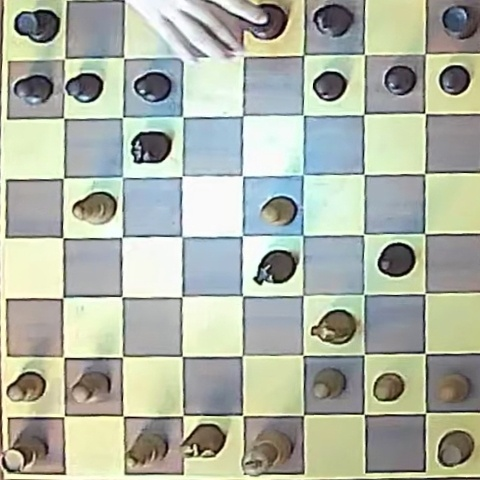black-bishop: (313, 3, 353, 38), (377, 243, 415, 278)
black-king: (248, 3, 287, 41)
black-knight: (254, 250, 296, 285), (130, 131, 171, 164)
black-pawn: (133, 71, 172, 103), (14, 74, 54, 105), (65, 72, 103, 103), (384, 65, 417, 95), (313, 71, 346, 101), (439, 65, 470, 95)
black-rook: (14, 9, 60, 43), (441, 5, 476, 39)
white-bishop: (123, 431, 167, 470), (73, 192, 116, 224)
white-king: (242, 429, 293, 477)
white-knight: (180, 424, 225, 459), (312, 310, 356, 344)
white-pawn: (71, 372, 110, 404), (6, 371, 46, 402), (260, 196, 296, 227), (312, 368, 345, 399), (437, 374, 468, 403), (374, 373, 404, 401)
white-rook: (3, 435, 47, 472), (437, 431, 474, 467)
